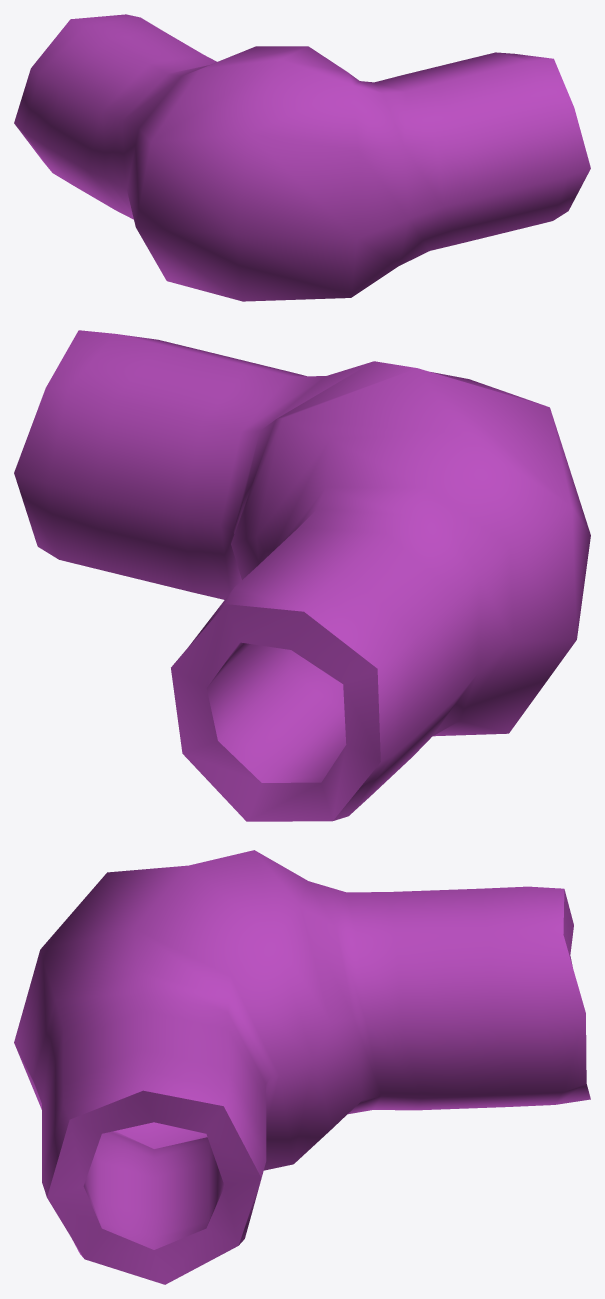
The model's file is tunnelturn2.fbx.
3 renders of one model, top to bottom at view 1: azimuth 30°, elevation 25°; view 2: azimuth 150°, elevation 25°; view 3: azimuth 270°, elevation 25°, orthographic. The views are drawn at different scales.
Visible parts, largest first — view 1: tunnelturn; view 2: tunnelturn; view 3: tunnelturn.
Boxes of the visible parts, x1,y1,x2,y2 form: tunnelturn: [14, 14, 590, 301]; tunnelturn: [14, 330, 590, 821]; tunnelturn: [14, 850, 590, 1284].
Bounding box in the file's own units: 0.1896 × 0.1109 × 0.19.
